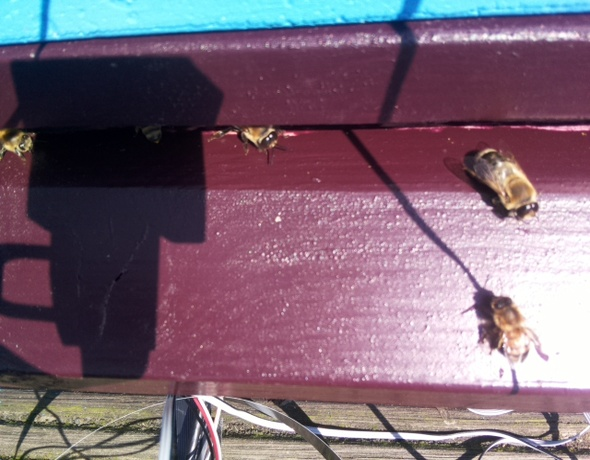no_pollen: (466, 142, 541, 226), (484, 291, 532, 366), (230, 122, 286, 154), (1, 126, 41, 164), (134, 124, 168, 147)
